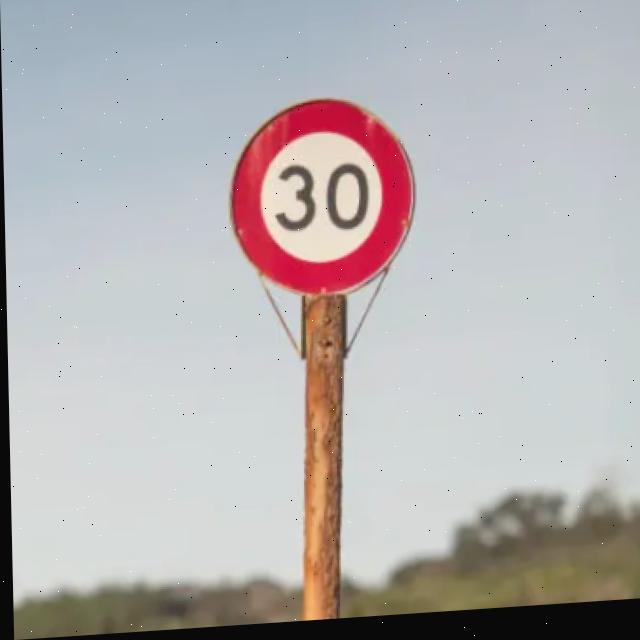Speed limit 30: (225, 95, 418, 309)
